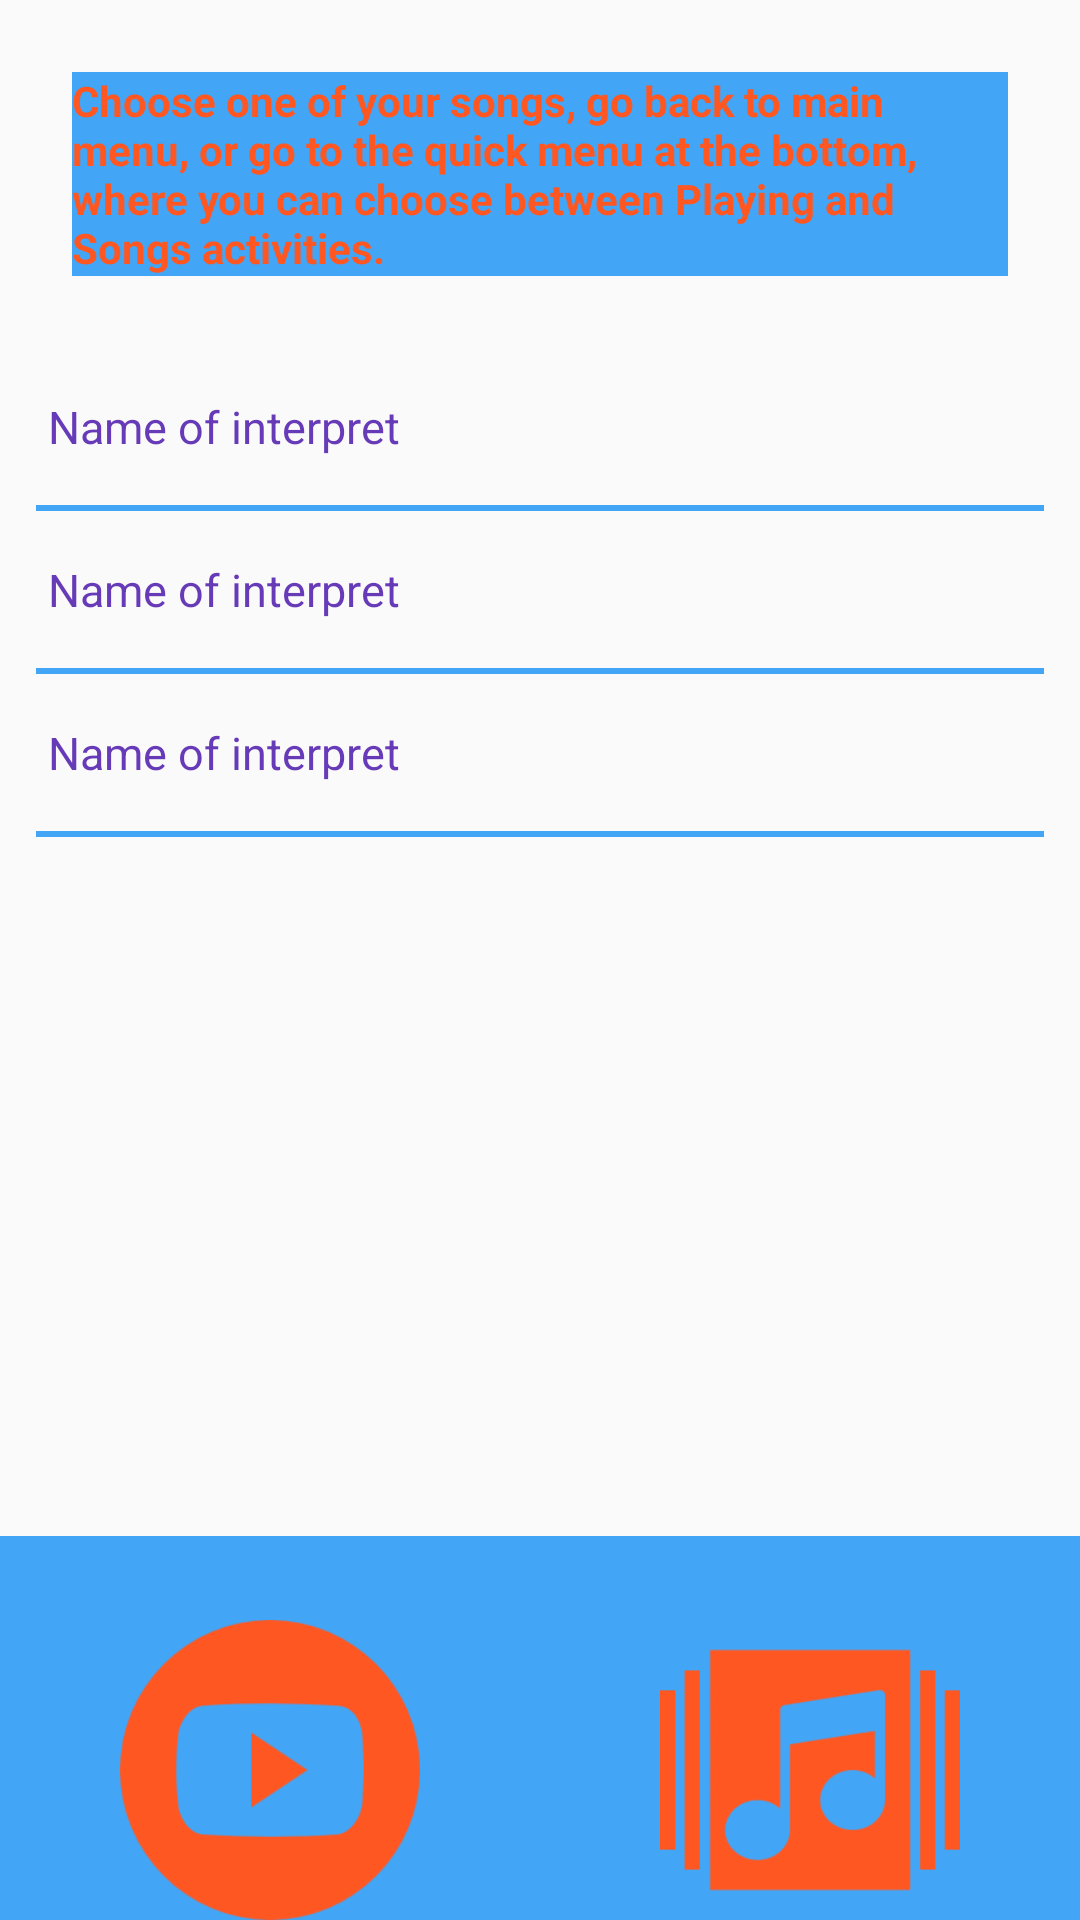

Screen size 1080w x 1920h. Icon name, then its box in pixels as (x1, y1, x2, y2):
songs: (660, 1649, 960, 1891)
